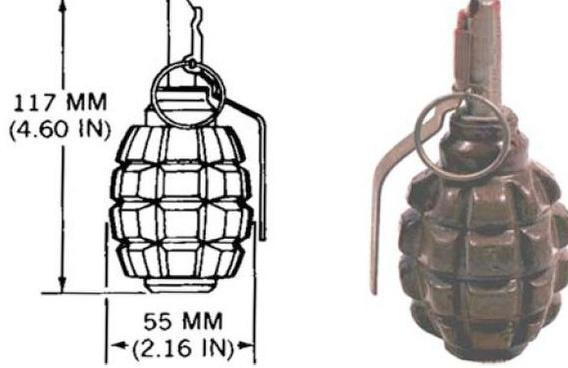Grenade: (371, 0, 567, 365), (108, 0, 267, 295)
